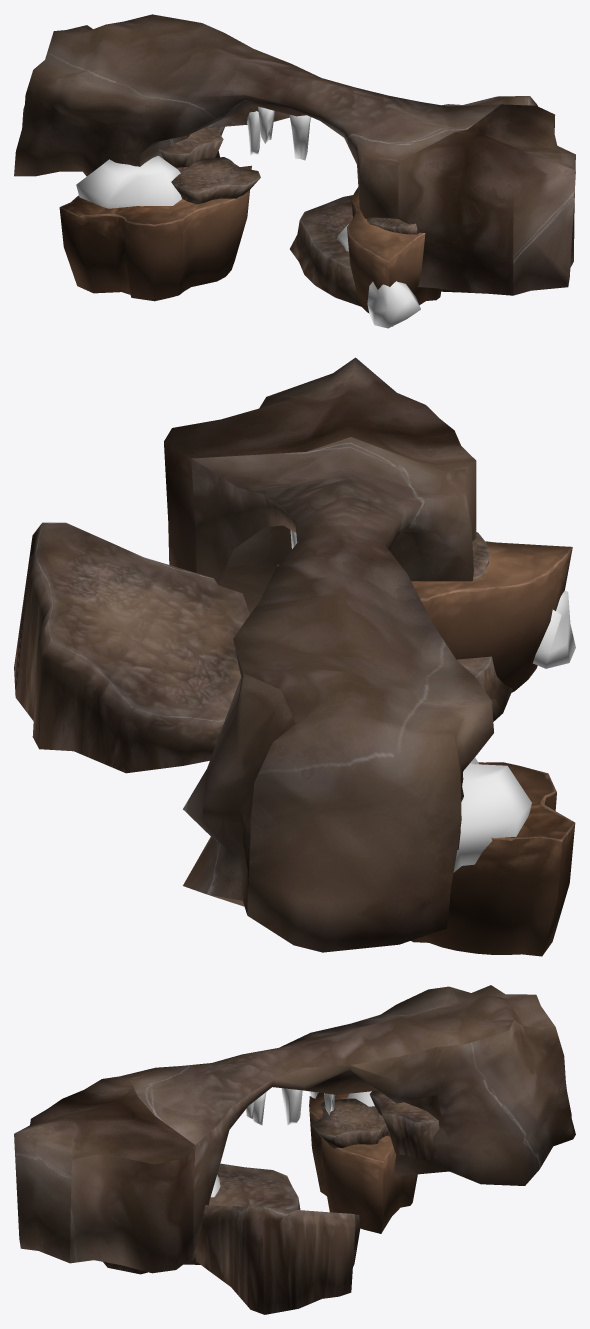
File: Bridge Platform.fbx
3 renders of one model, top to bottom at view 1: azimuth 30°, elevation 25°; view 2: azimuth 150°, elevation 25°; view 3: azimuth 270°, elevation 25°, orthographic. The views are drawn at different scales.
Parts seen in each view (by area): view 1: Spike Rocks; view 2: Spike Rocks; view 3: Spike Rocks.
Part boxes in pixels (<box>): Spike Rocks: <box>14,14,575,328</box>; Spike Rocks: <box>14,357,575,956</box>; Spike Rocks: <box>14,985,575,1314</box>.
Bounding box in the file's own units: 4309 × 1992 × 4968.
